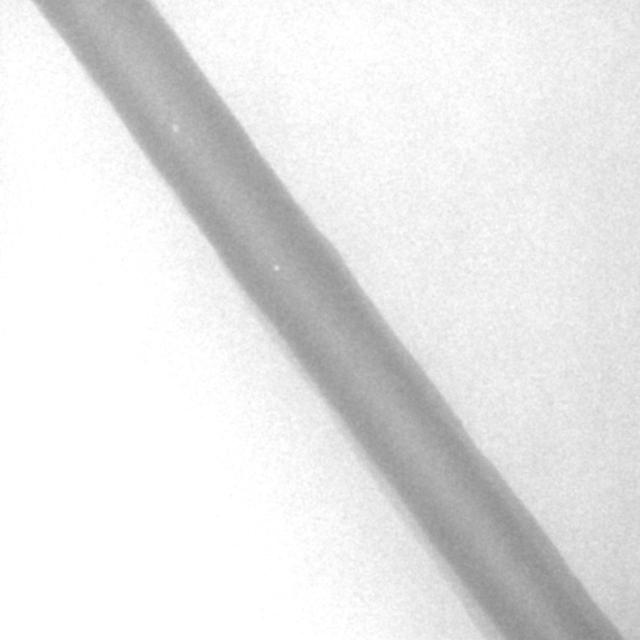air-hole: (172, 121, 180, 134), (273, 262, 278, 271)
